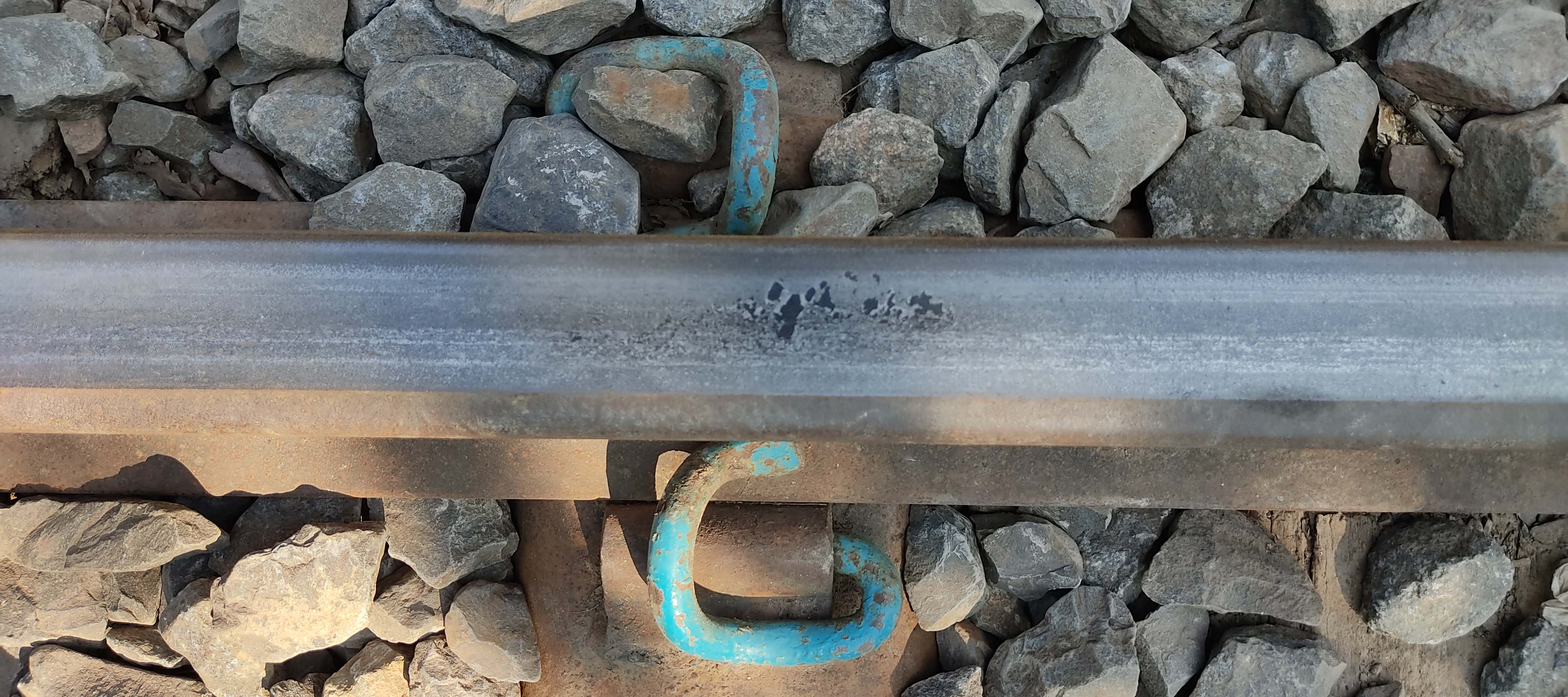Poor contact: (553, 9, 803, 260), (635, 441, 909, 657)
